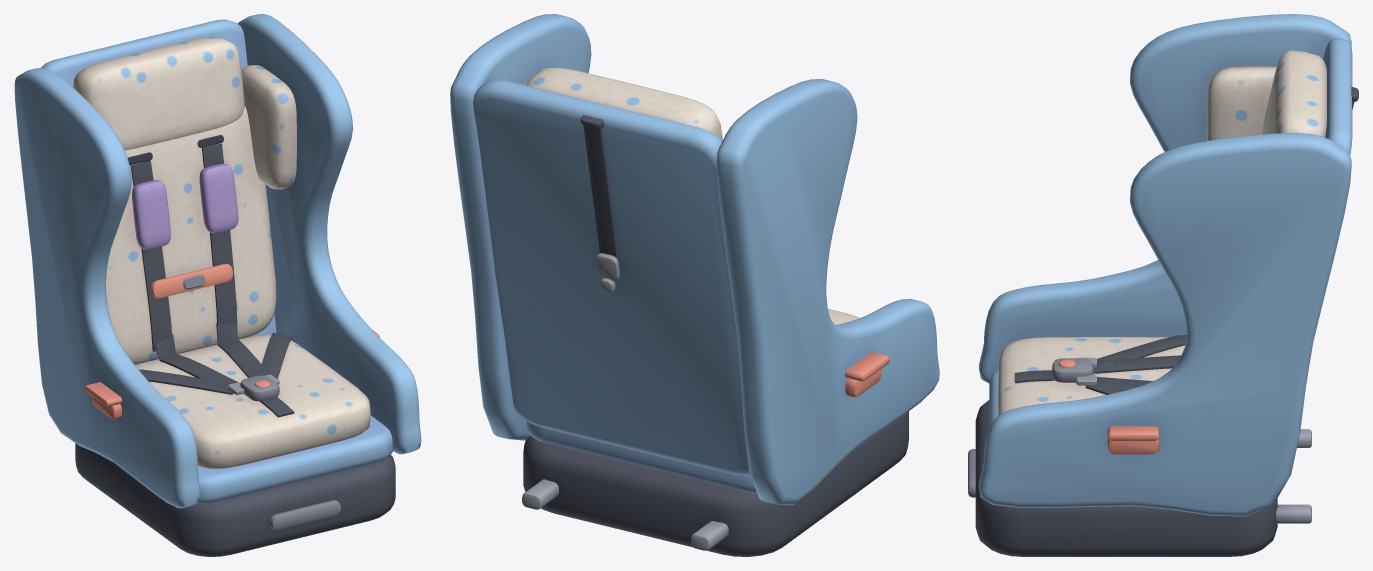
File: child-car-seat.glb
3 views of the same model, side by side, from view 1: azimuth 30°, elevation 25°; view 2: azimuth 150°, elevation 25°; view 3: azimuth 270°, elevation 25° (orthographic). The views are drawn at different scales.
Parts seen in each view (by area): view 1: child-car-seat_body; view 2: child-car-seat_body; view 3: child-car-seat_body.
Part boxes in pixels (box(x1,y1,x2,y2)): child-car-seat_body: box(14, 14, 421, 556); child-car-seat_body: box(450, 14, 939, 556); child-car-seat_body: box(968, 14, 1358, 556).
Bounding box in the file's own units: 0.508 × 0.688 × 0.5696.
1 material, 1 textured.
